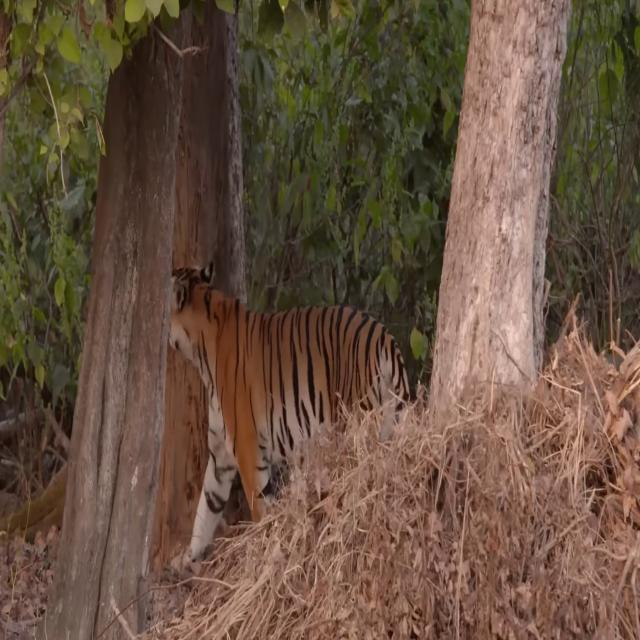tiger: (165, 255, 412, 569)
